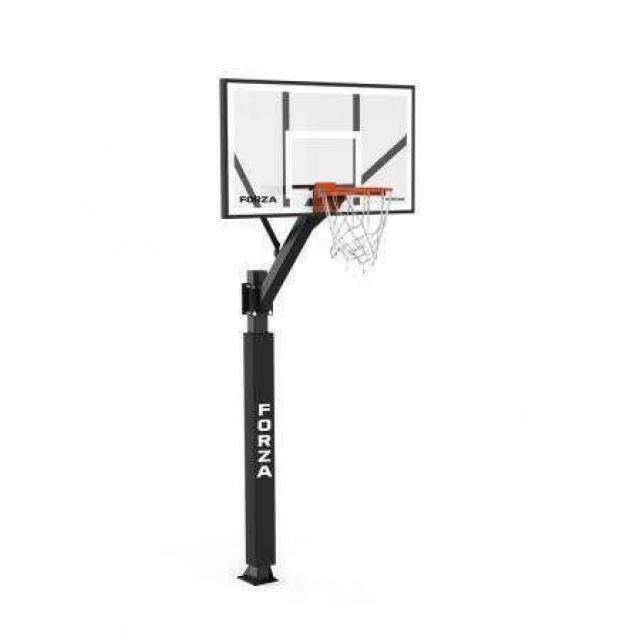hoop: (318, 186, 394, 272)
